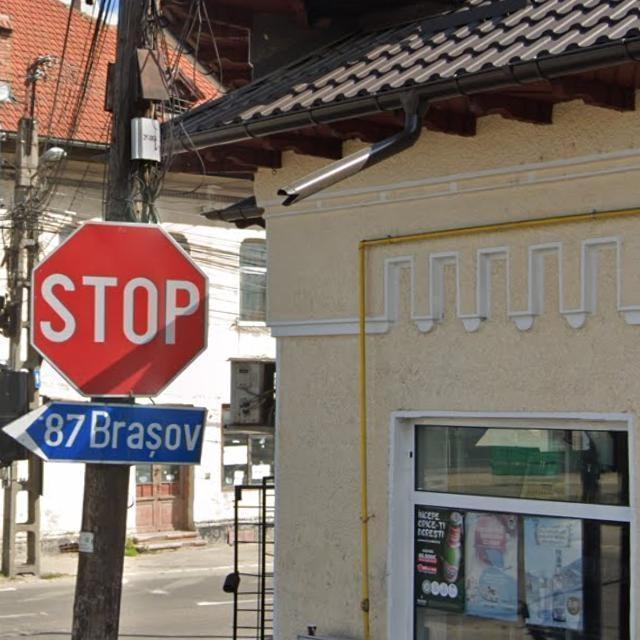prio_stop: (27, 222, 207, 393)
